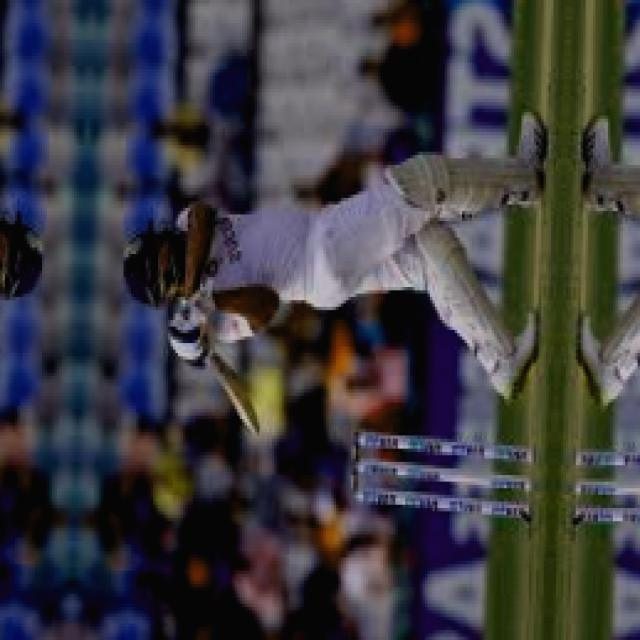toe: (241, 401, 267, 441)
